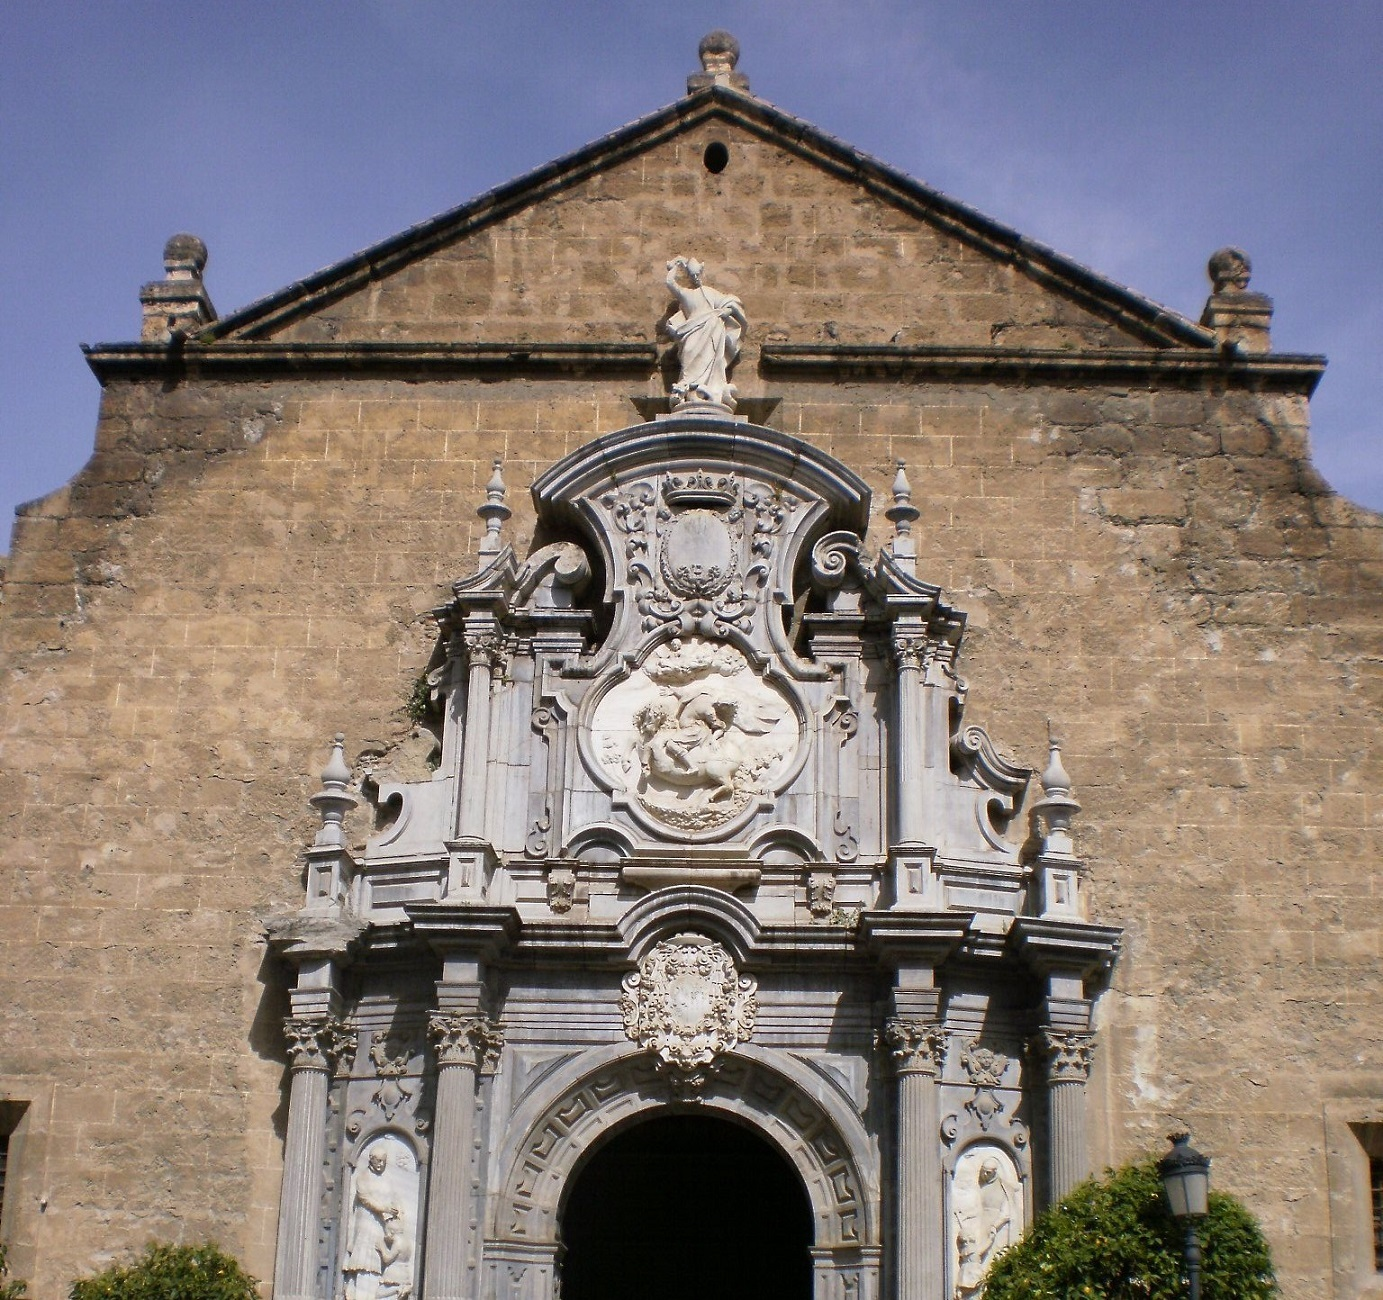arco-medio-punto: (538, 1091, 833, 1273)
